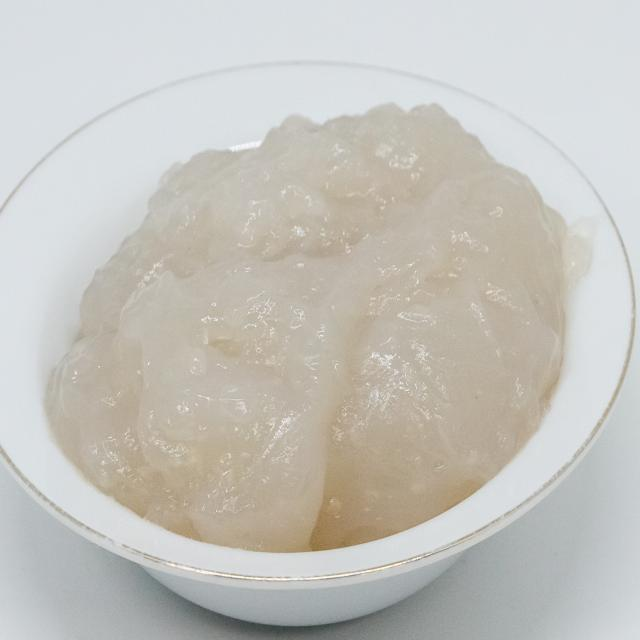Papeda: (39, 81, 600, 561)
